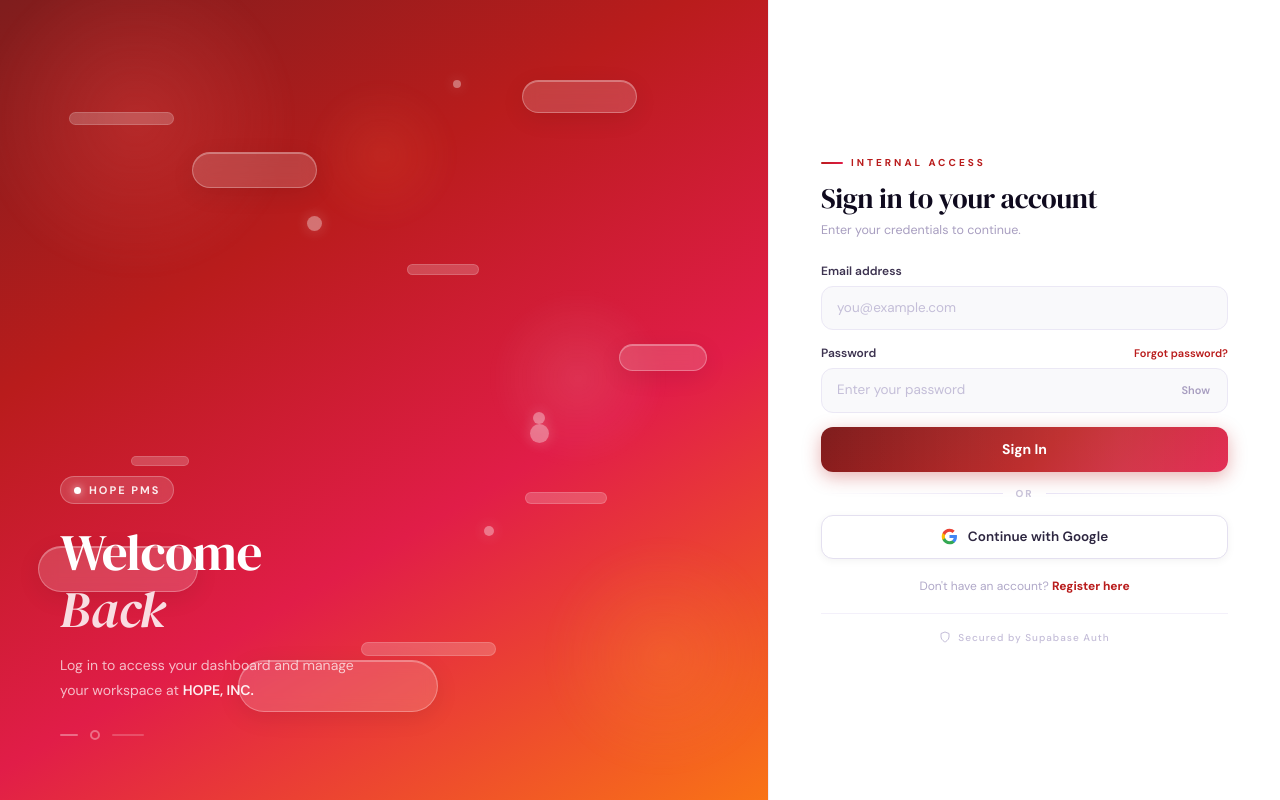
it: Login Component › shows error on failed login
Type "wrong@example.com" into the field with placeholder "you@example.com" at (1024, 308), box [821,286,1228,330]
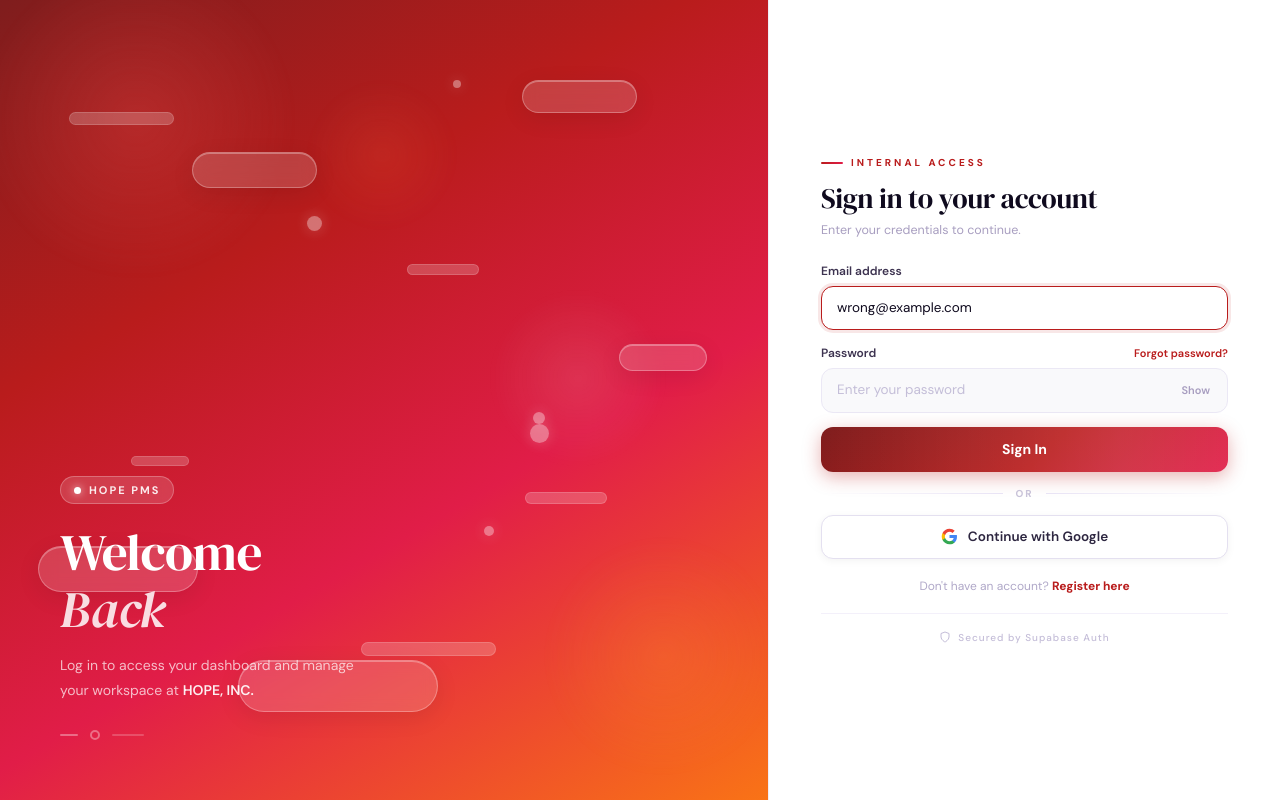
Type "wrong" into the password field with placeholder "Enter your password" at (1024, 390), box [821,368,1228,413]
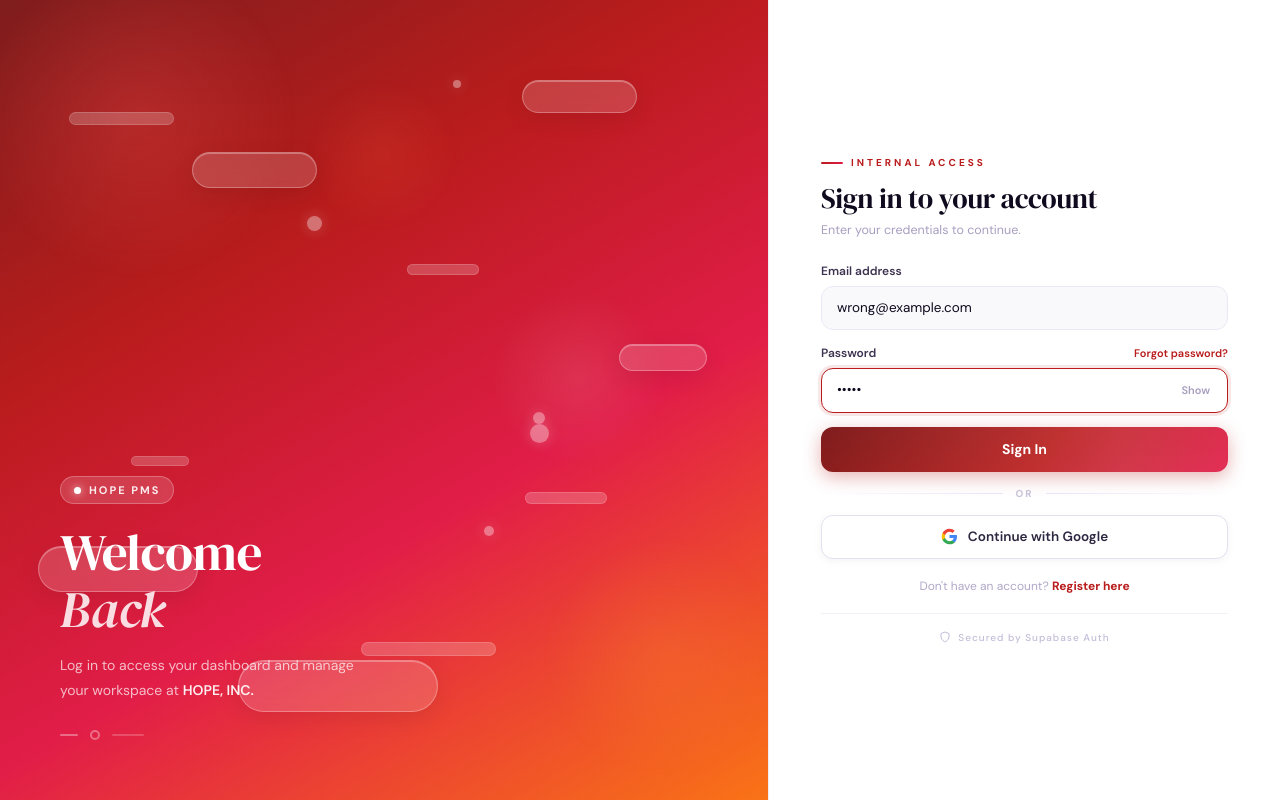
Click the button "Sign In" at (1024, 449), box [821,426,1228,472]
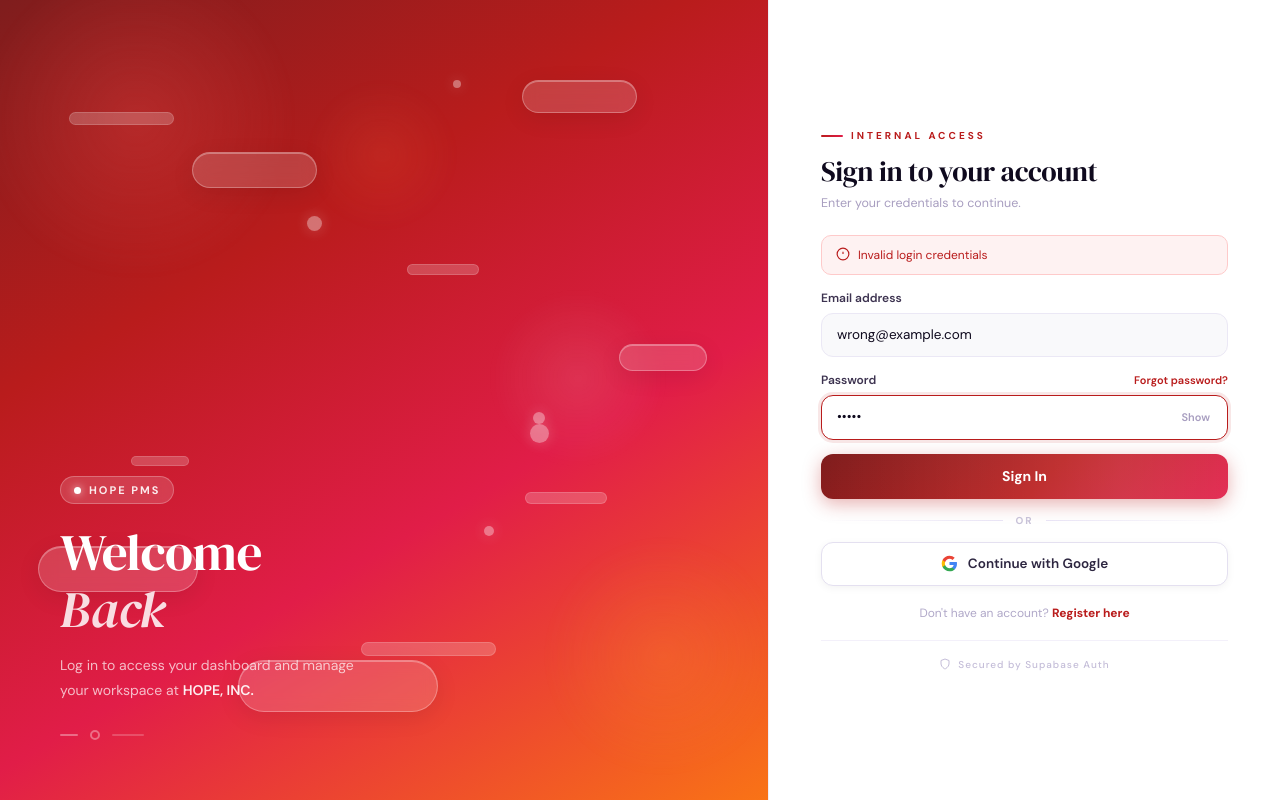
Result: the text "Invalid login credentials" is shown at [821,235,1228,275]
